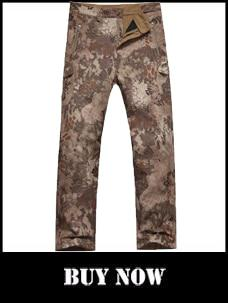pants: (47, 2, 178, 251)
